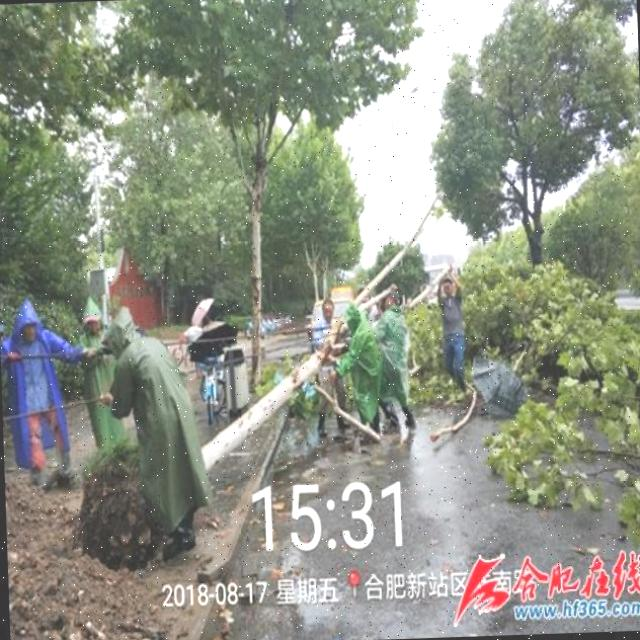fallen_object: (70, 191, 455, 552)
